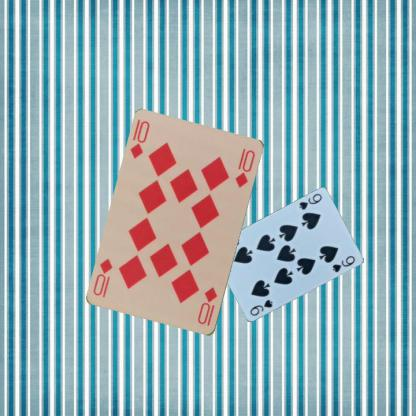10d: (195, 284, 219, 328), (128, 118, 151, 160)
9s: (247, 297, 274, 317), (296, 192, 323, 212)
